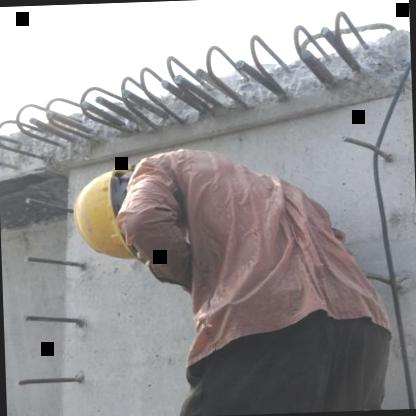helmet: (59, 157, 176, 264)
